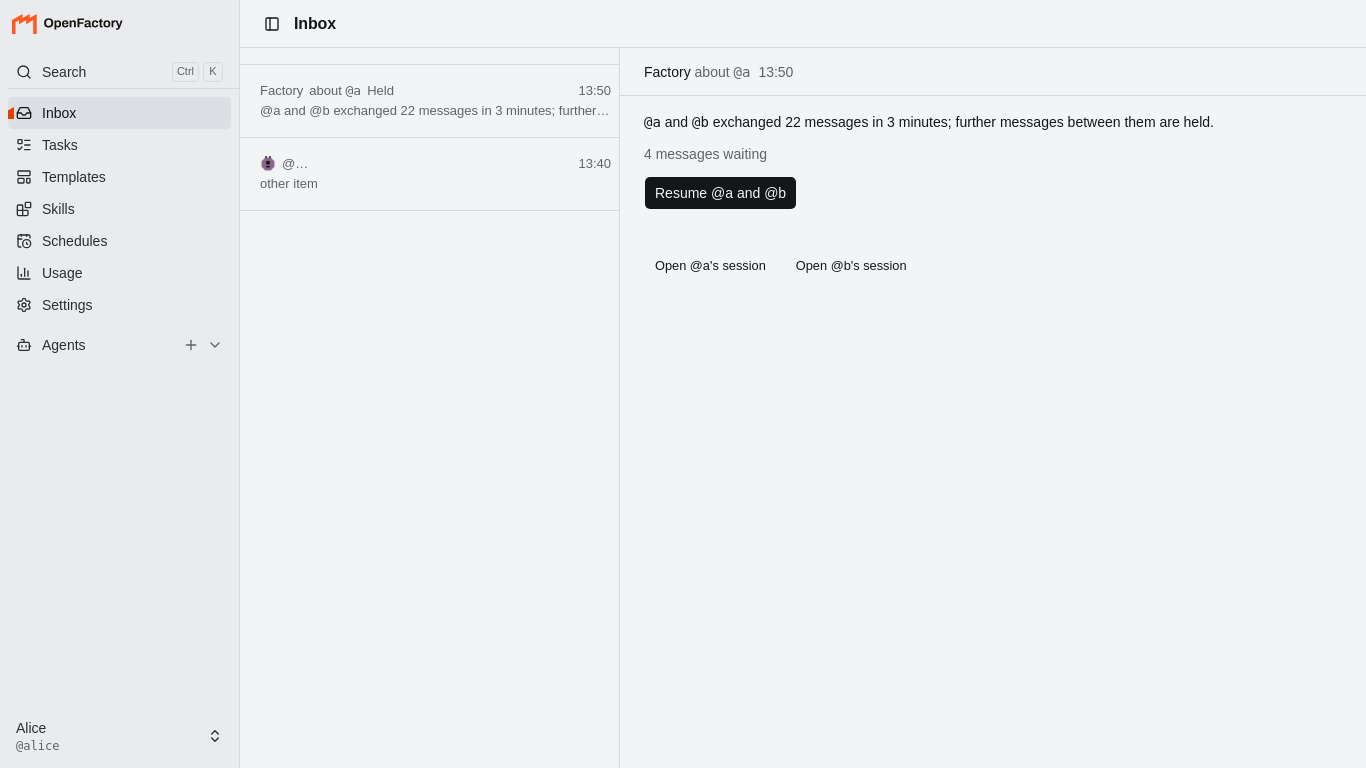
Test: a 409 shows who resumed first, from the error body, with no failure line
The width and height of the screenshot is (1366, 768).
Expected: the text "exchanged 22 messages" is shown, x1=709 y1=114 x2=1214 y2=130
What coordinates should you click on to do the following:
click the button "Resume @a and @b"
I would click on:
 (721, 193)
Its box is x1=644 y1=176 x2=797 y2=210.
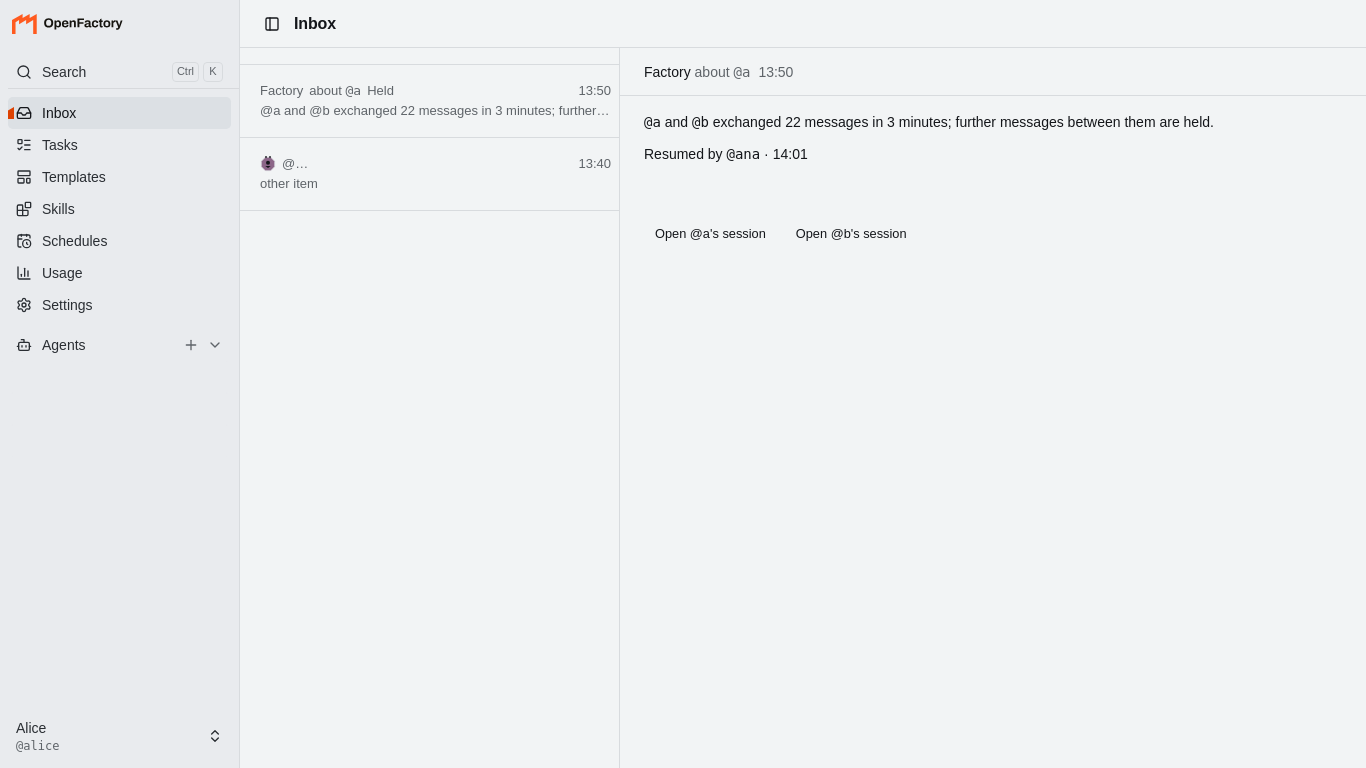
Expected: the message reads "Resumed by @ana · 14:01", x1=644 y1=144 x2=808 y2=164
